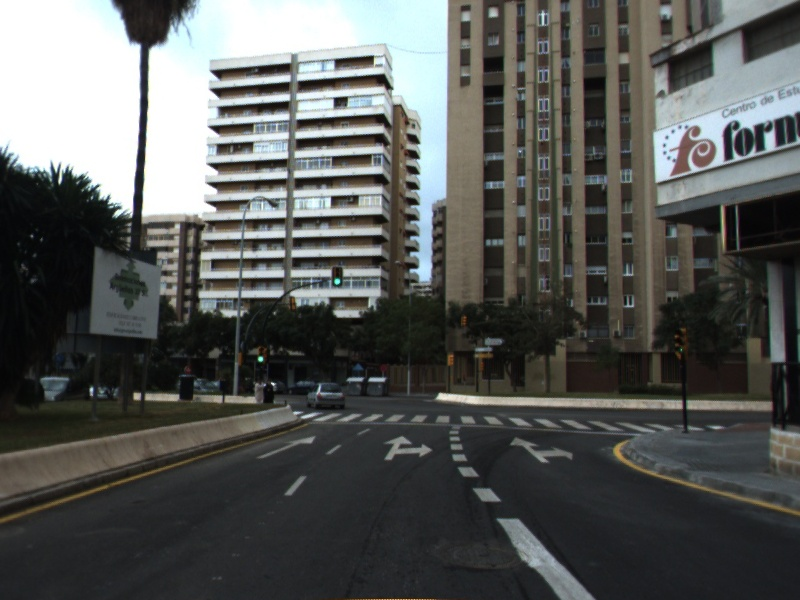STRAIGHT: (253, 434, 318, 460)
STRAIGHT_RIGHT: (508, 435, 575, 464), (381, 434, 435, 462)
